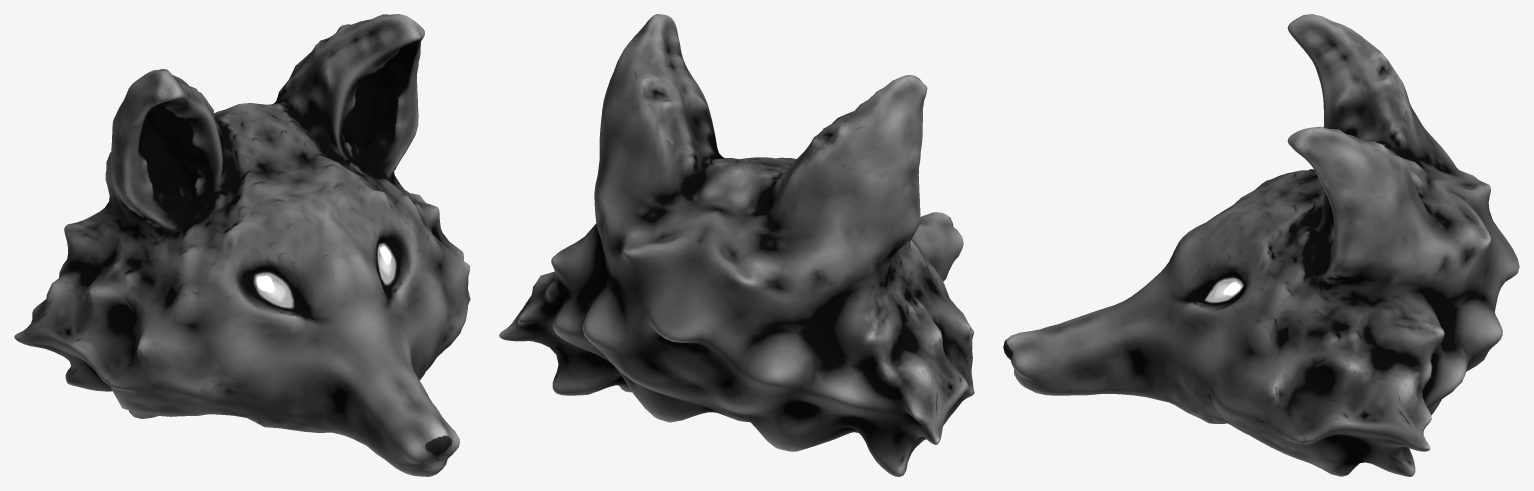
Rendered from foxNoAnims.glb.
3 renders of one model, left to right at view 1: azimuth 30°, elevation 25°; view 2: azimuth 150°, elevation 25°; view 3: azimuth 270°, elevation 25°, orthographic. The views are drawn at different scales.
Parts seen in each view (by area): view 1: Low Poly.001; view 2: Low Poly.001; view 3: Low Poly.001.
Part boxes in pixels (x1,y1,x2,y2): Low Poly.001: (14, 14, 470, 476); Low Poly.001: (499, 14, 974, 476); Low Poly.001: (1003, 14, 1519, 476).
Size of the model in its own units: 1.63 by 1.3 by 1.77.
Materials: 1 (1 with a texture image).
